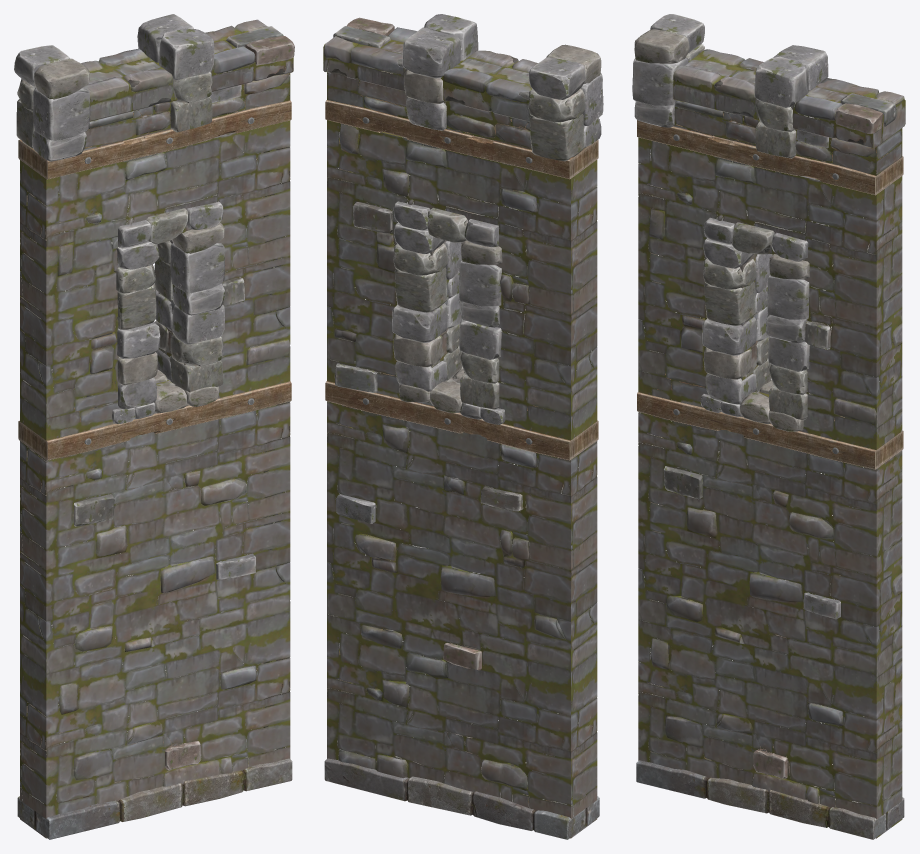
3 views of the same model, side by side, from view 1: azimuth 30°, elevation 25°; view 2: azimuth 150°, elevation 25°; view 3: azimuth 330°, elevation 25° (orthographic). The views are drawn at different scales.
Visible parts, largest first — view 1: SM_Castle_Wall_4x12_01_v9_LOD0; view 2: SM_Castle_Wall_4x12_01_v9_LOD0; view 3: SM_Castle_Wall_4x12_01_v9_LOD0.
Boxes of the visible parts, x1,y1,x2,y2 form: SM_Castle_Wall_4x12_01_v9_LOD0: (14,14,294,839); SM_Castle_Wall_4x12_01_v9_LOD0: (323,14,603,839); SM_Castle_Wall_4x12_01_v9_LOD0: (632,14,905,839).
Size of the model in its own units: 4.06 by 11.97 by 1.11.
Materials: 6 (6 with a texture image).
